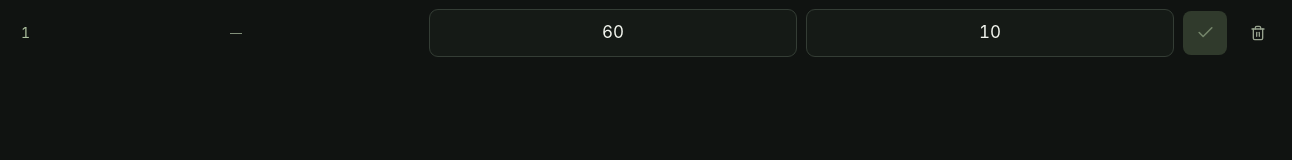
저장 실패를 알리고 다시 저장할 수 있다
Click the button named "1세트 완료" at (1205, 33), box [1183,11,1227,55]
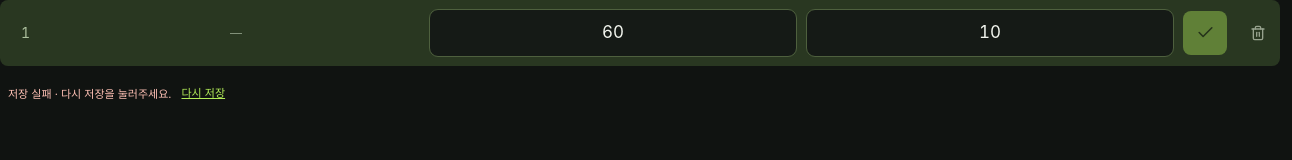
Check: the message shows "저장 실패", box [8,86,172,100]
Click the button "다시 저장" at (203, 94), box [182,72,225,116]
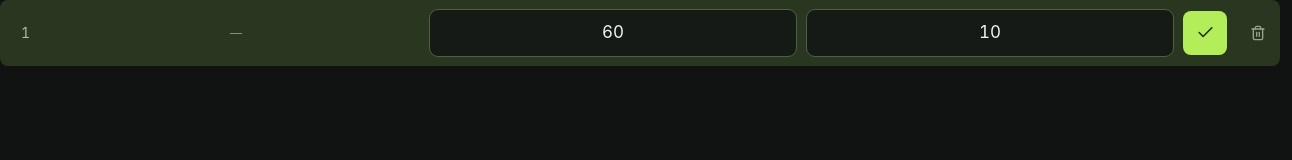
Check: the message "저장 실패 · 다시 저장을 눌러주세요. 다시 저장" is gone
